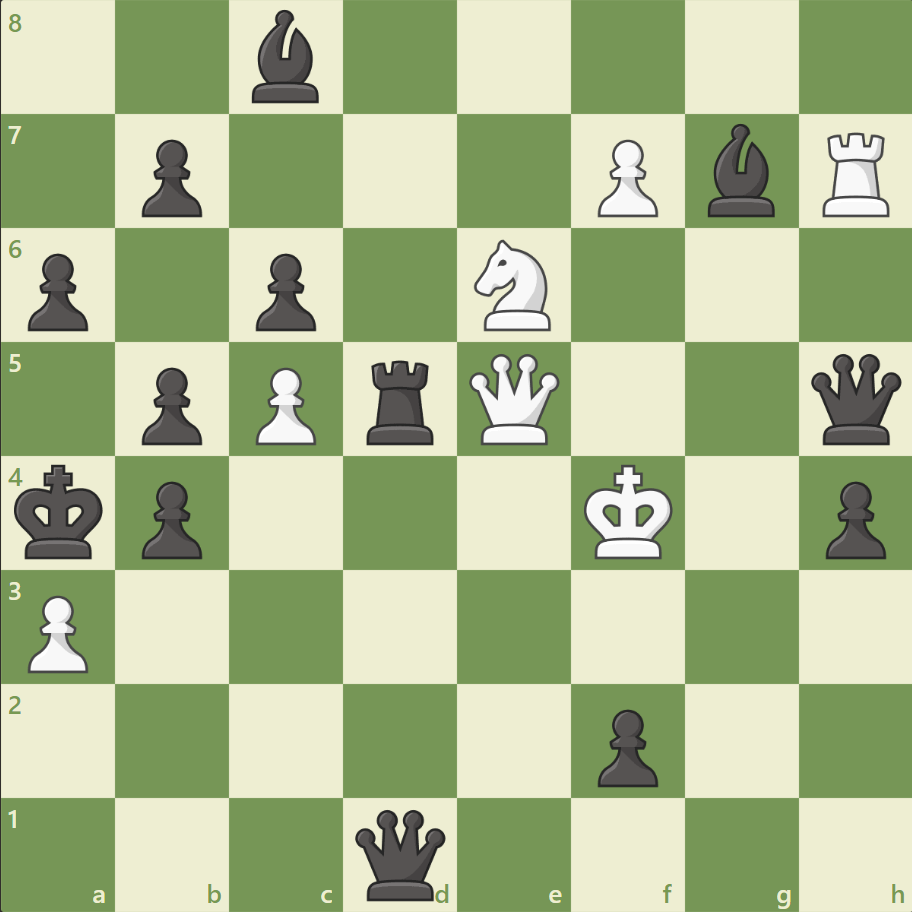K: (579, 458, 679, 566)
N: (465, 234, 562, 337)
P: (247, 359, 322, 450), (20, 586, 95, 677), (588, 132, 662, 223)
Q: (464, 349, 563, 449)
R: (814, 125, 897, 222)
b: (244, 6, 328, 109), (698, 120, 782, 222)
k: (11, 458, 111, 566)
p: (133, 132, 208, 223), (20, 246, 95, 337), (247, 246, 322, 337), (133, 359, 208, 450), (133, 473, 208, 564), (815, 473, 889, 564), (588, 700, 662, 791)
q: (805, 349, 904, 449), (351, 804, 450, 903)
r: (360, 352, 442, 449)
